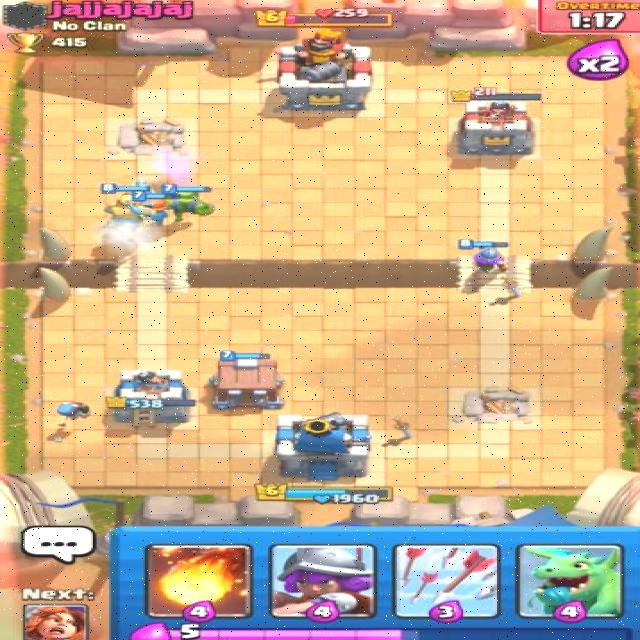Player-Bomber: (52, 400, 95, 422)
Player-Brawler: (157, 181, 220, 220)
Player-GoblinCage: (202, 348, 293, 411)
Player-Musketeer: (459, 238, 512, 275)
Player-Prince: (95, 183, 158, 240)
Player-Valkyrie: (128, 187, 177, 228)
